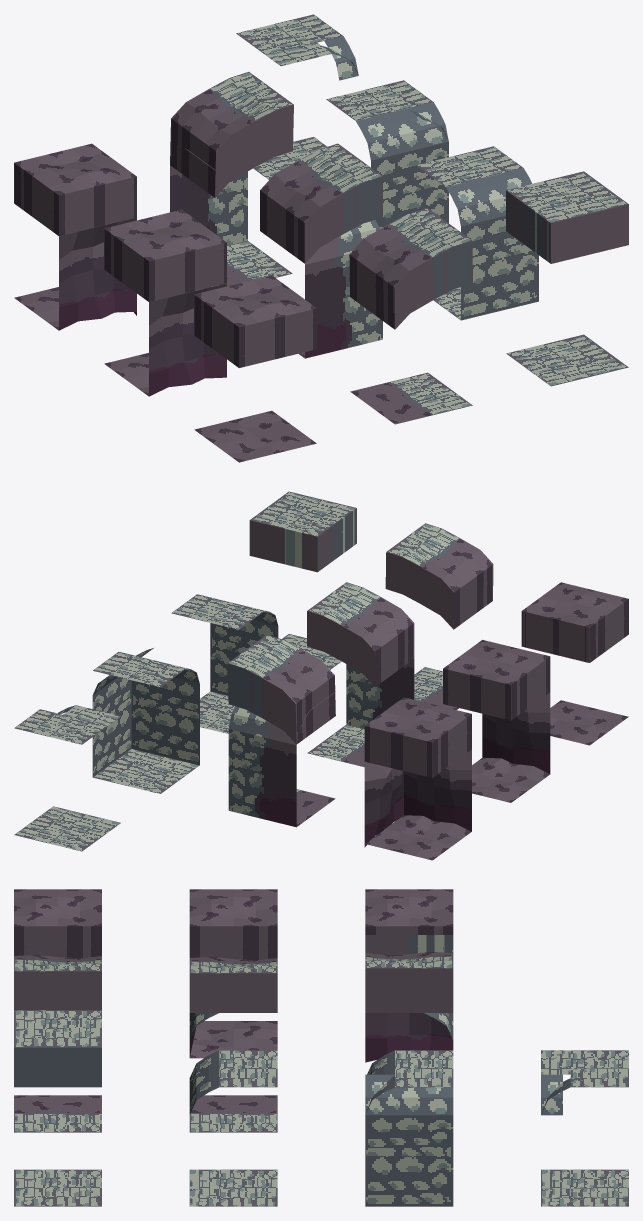
The model's file is dungeon_tileset8.glb.
The picture shows the model from 3 angles, top to bottom: view 1: azimuth 30°, elevation 25°; view 2: azimuth 150°, elevation 25°; view 3: azimuth 270°, elevation 25°; orthographic projection. The views are drawn at different scales.
Visible parts, largest first — view 1: Cube.012, Cube.017, Cube.014, Cube.003, Cube.018, Cube, Cube.001, Cube.004, Cube.006, Cube.005; view 2: Cube.012, Cube.014, Cube.006, Cube.003, Cube.017, Cube.001, Cube.018, Cube, Cube.004, Cube.005; view 3: Cube.006, Cube, Cube.014, Cube.003, Cube.017, Cube.018, Cube.005, Cube.004, Cube.001, Cube.012.
Boxes of the visible parts, <box> form: Cube.012: <box>170,72,293,286</box>; Cube.017: <box>260,143,382,358</box>; Cube.014: <box>14,143,136,330</box>; Cube.003: <box>104,209,226,396</box>; Cube.018: <box>349,207,472,424</box>; Cube: <box>506,171,628,386</box>; Cube.001: <box>194,275,316,462</box>; Cube.004: <box>416,146,538,320</box>; Cube.006: <box>326,80,448,228</box>; Cube.005: <box>236,14,358,179</box>; Cube.012: <box>227,634,335,827</box>; Cube.014: <box>364,697,471,860</box>; Cube.006: <box>92,648,199,793</box>; Cube.003: <box>443,640,550,802</box>; Cube.017: <box>307,582,414,767</box>; Cube.001: <box>521,582,628,745</box>; Cube.018: <box>385,523,493,709</box>; Cube: <box>249,491,356,669</box>; Cube.004: <box>171,594,278,733</box>; Cube.005: <box>14,705,120,851</box>; Cube.006: <box>365,1050,453,1206</box>; Cube: <box>14,1010,101,1206</box>; Cube.014: <box>365,889,453,1062</box>; Cube.003: <box>189,889,277,1058</box>; Cube.017: <box>189,956,277,1132</box>; Cube.018: <box>14,954,101,1132</box>; Cube.005: <box>541,1050,628,1206</box>; Cube.004: <box>189,1050,277,1206</box>; Cube.001: <box>14,889,101,958</box>; Cube.012: <box>365,952,453,1040</box>.
Bounding box in the file's own units: 10 × 4.24 × 14.
1 material, 1 textured.
